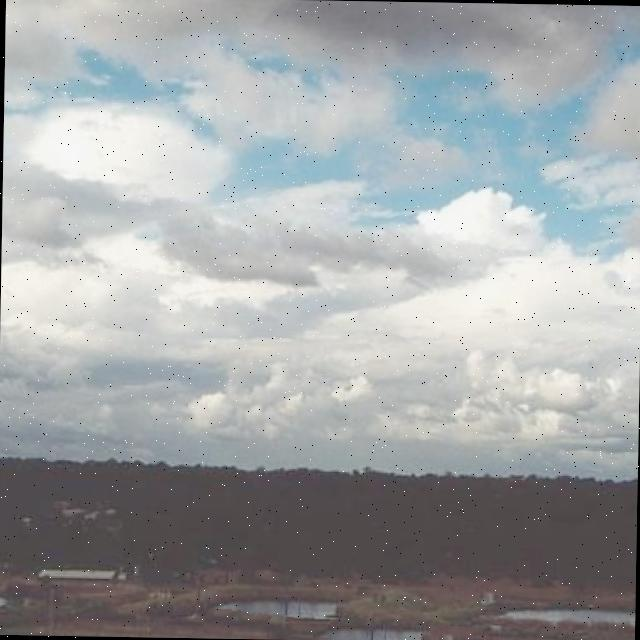Sc: (1, 1, 640, 437)
